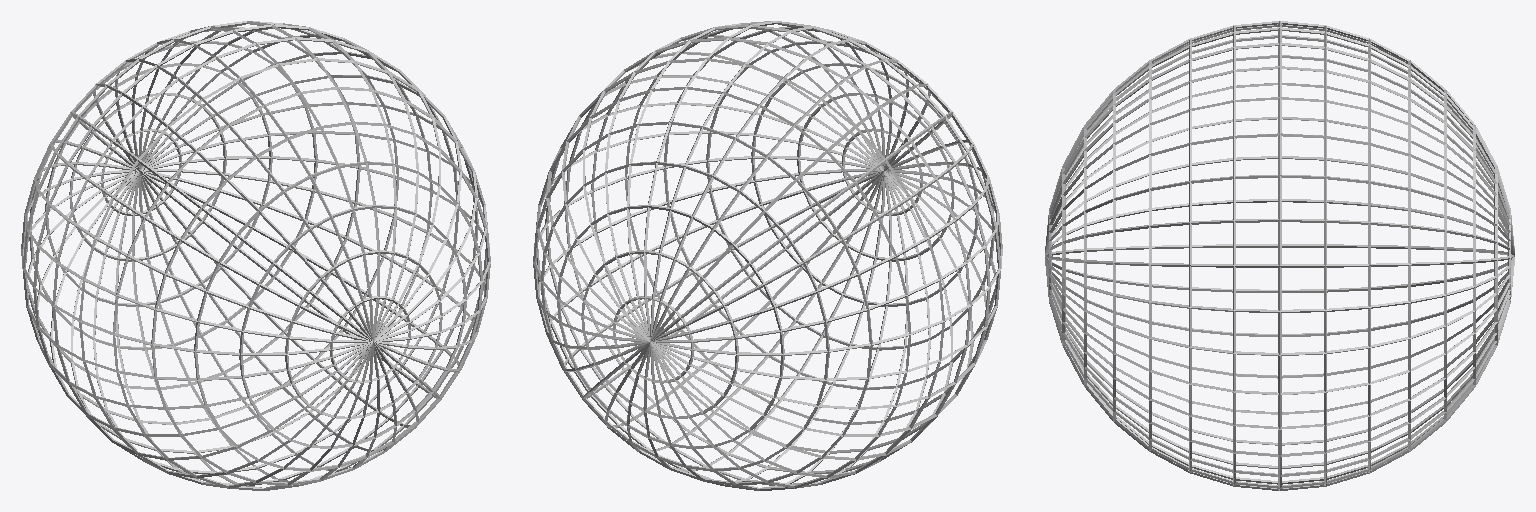
Rendered from SphereWireframe.obj.
The picture shows the model from 3 angles: view 1: azimuth 30°, elevation 25°; view 2: azimuth 150°, elevation 25°; view 3: azimuth 270°, elevation 25°; orthographic projection.
Parts seen in each view (by area): view 1: Sphere; view 2: Sphere; view 3: Sphere.
Boxes of the visible parts, x1=… form: Sphere: x1=21, y1=21, x2=490, y2=490; Sphere: x1=533, y1=21, x2=1002, y2=490; Sphere: x1=1045, y1=21, x2=1514, y2=490.
Size of the model in its own units: 200 by 200 by 200.